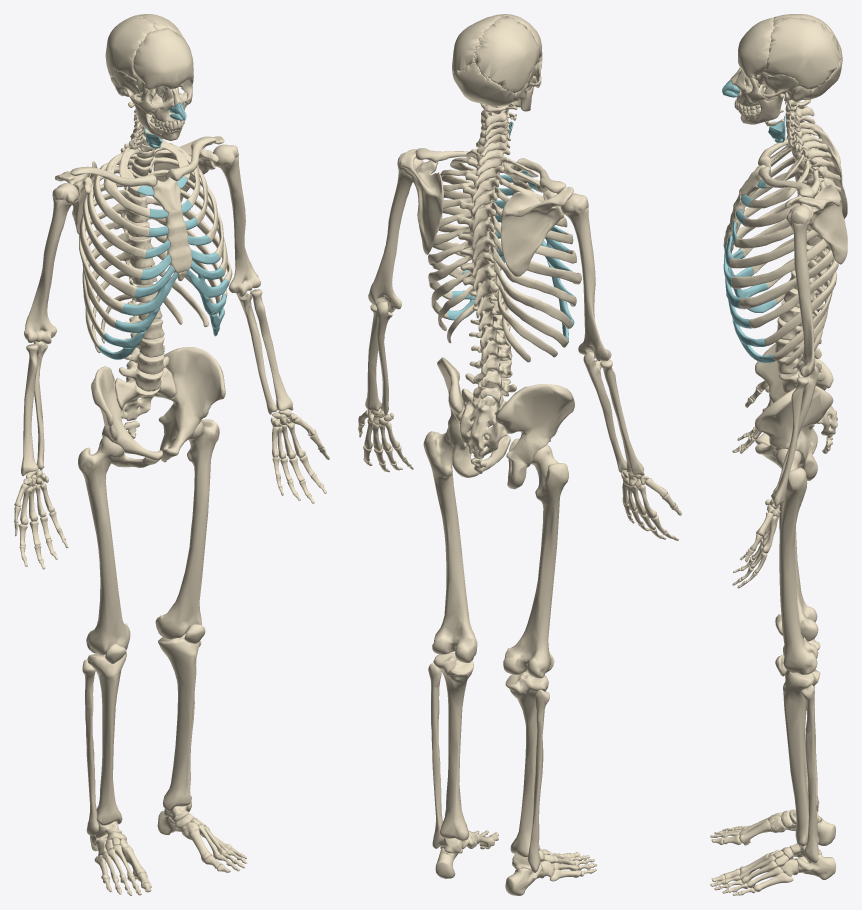
Rendered from skeleton.glb.
The picture shows the model from 3 angles, left to right: view 1: azimuth 30°, elevation 25°; view 2: azimuth 150°, elevation 25°; view 3: azimuth 270°, elevation 25°; orthographic projection. The views are drawn at different scales.
Visible parts, largest first — view 1: femur-right, femur-left, hip-bone-left, tibia-left, frontal-bone, tibia-right, humerus-right, humerus-left, hip-bone-right, parietal-bone-right, sacrum, fibula-right (+18 smaller); view 2: femur-right, femur-left, hip-bone-right, scapula-right, parietal-bone-right, tibia-left, tibia-right, humerus-right, humerus-left, hip-bone-left, scapula-left, sacrum (+15 smaller); view 3: femur-left, parietal-bone-left, tibia-left, hip-bone-left, humerus-left, scapula-left, fibula-left, frontal-bone, hip-bone-right, radius-left, femur-right, seventh-rib-left (+28 smaller).
Part boxes in pixels (bbox=[...]): femur-right: bbox=[78, 436, 130, 655]; femur-left: bbox=[155, 419, 219, 639]; hip-bone-left: bbox=[158, 347, 225, 462]; tibia-left: bbox=[158, 632, 200, 811]; frontal-bone: bbox=[133, 28, 193, 91]; tibia-right: bbox=[87, 652, 126, 825]; humerus-right: bbox=[24, 183, 78, 344]; humerus-left: bbox=[212, 144, 260, 296]; hip-bone-right: bbox=[91, 366, 162, 467]; parietal-bone-right: bbox=[105, 15, 157, 79]; sacrum: bbox=[115, 367, 175, 420]; fibula-right: bbox=[82, 659, 99, 835]; femur-right: bbox=[503, 444, 568, 678]; femur-left: bbox=[423, 428, 477, 662]; hip-bone-right: bbox=[495, 384, 574, 489]; scapula-right: bbox=[500, 187, 573, 276]; parietal-bone-right: bbox=[474, 16, 539, 93]; tibia-left: bbox=[433, 652, 473, 840]; tibia-right: bbox=[505, 671, 548, 857]; humerus-right: bbox=[561, 193, 611, 361]; humerus-left: bbox=[368, 152, 423, 312]; hip-bone-left: bbox=[437, 357, 510, 477]; scapula-left: bbox=[400, 149, 443, 254]; sacrum: bbox=[459, 388, 507, 458]; femur-left: bbox=[775, 448, 818, 674]; parietal-bone-left: bbox=[763, 17, 840, 89]; tibia-left: bbox=[783, 669, 820, 846]; hip-bone-left: bbox=[755, 386, 833, 480]; humerus-left: bbox=[786, 205, 815, 377]; scapula-left: bbox=[785, 183, 847, 264]; fibula-left: bbox=[800, 684, 818, 863]; frontal-bone: bbox=[738, 17, 774, 78]; hip-bone-right: bbox=[755, 343, 833, 453]; radius-left: bbox=[771, 377, 808, 506]; femur-right: bbox=[779, 470, 818, 641]; seventh-rib-left: bbox=[739, 249, 834, 309].
Bounding box in the file's own units: 0.6693 × 1.7 × 0.2501.
